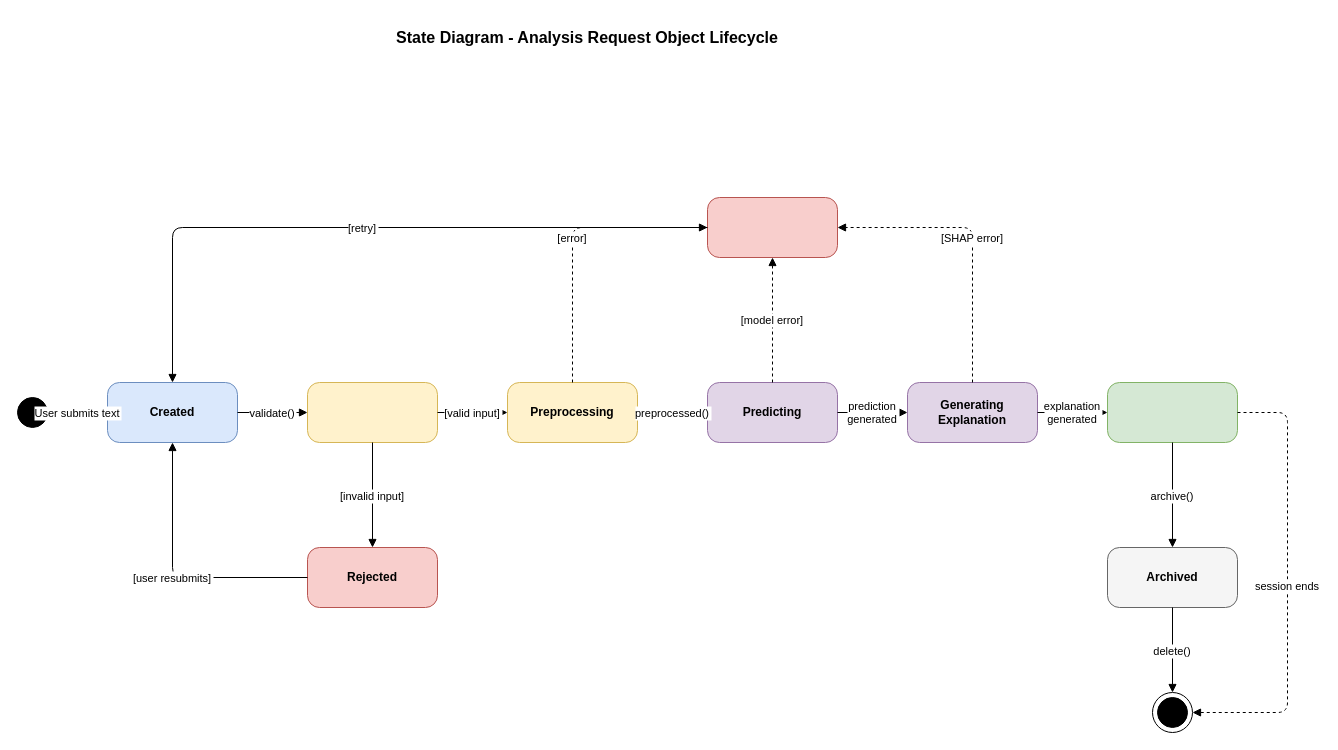
Image size: 1338x750. Some labels were removed from this diagram. Each missing label, with the centre of its shape:
Completed: [1172,412]
Failed: [772,227]
Validating: [372,412]
